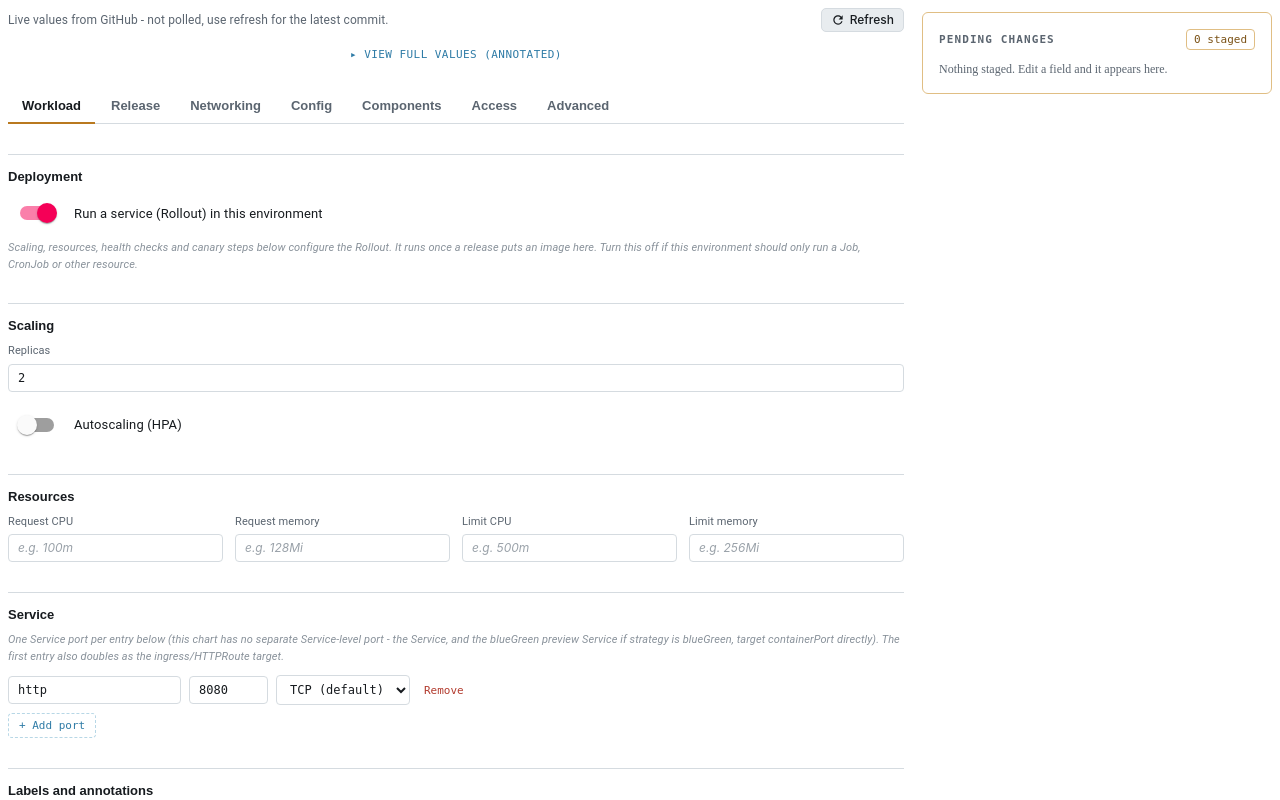
Test: values form pending changes › discards every staged change, in every sub-tab
This screenshot has width=1280, height=800.
Replace the text in the number field labelled "Replicas" with "5" at (456, 378), box [8,364,904,392]
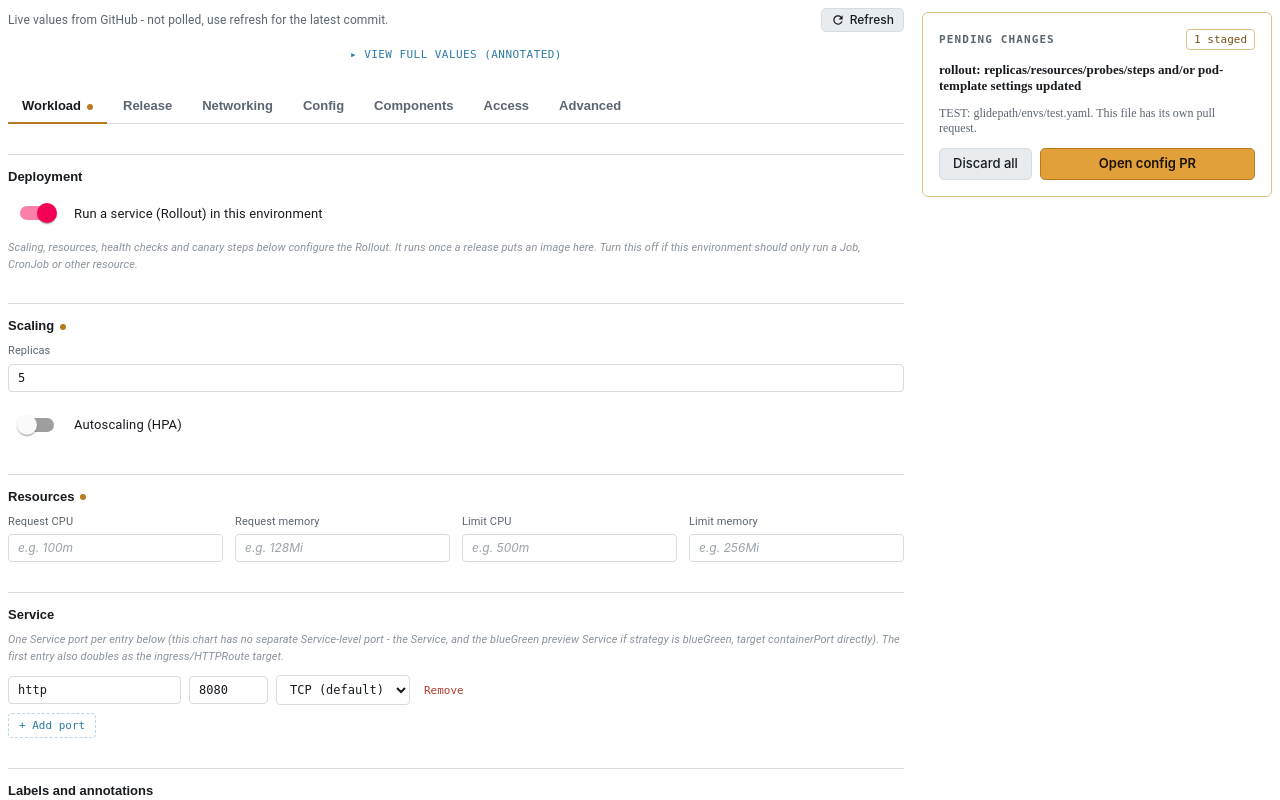
Click the button "Discard all".
click(985, 164)  # box [939,148,1032,180]
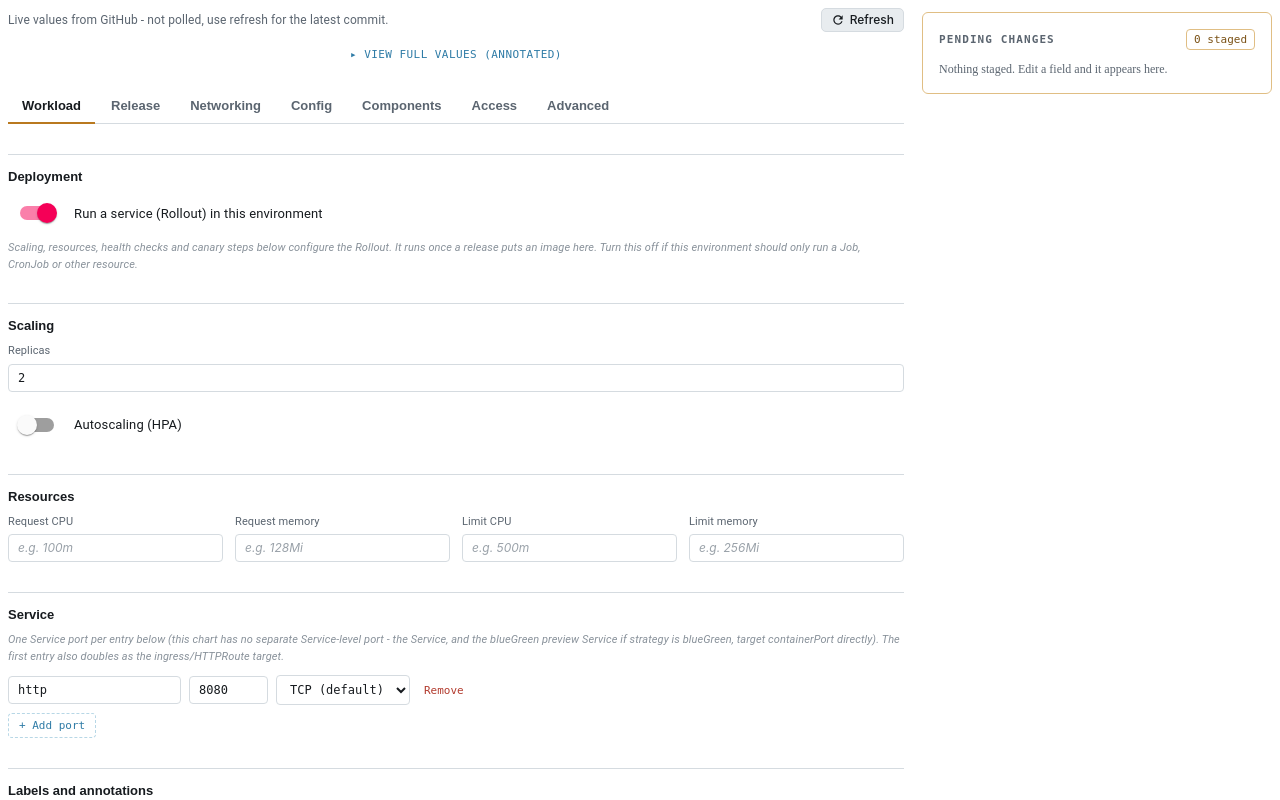
Expected: the number field labelled "Replicas" holds "2", [8,364,904,392]
Expected: the text "Nothing staged. Edit a field and it appears here." is shown, [939,62,1168,76]
